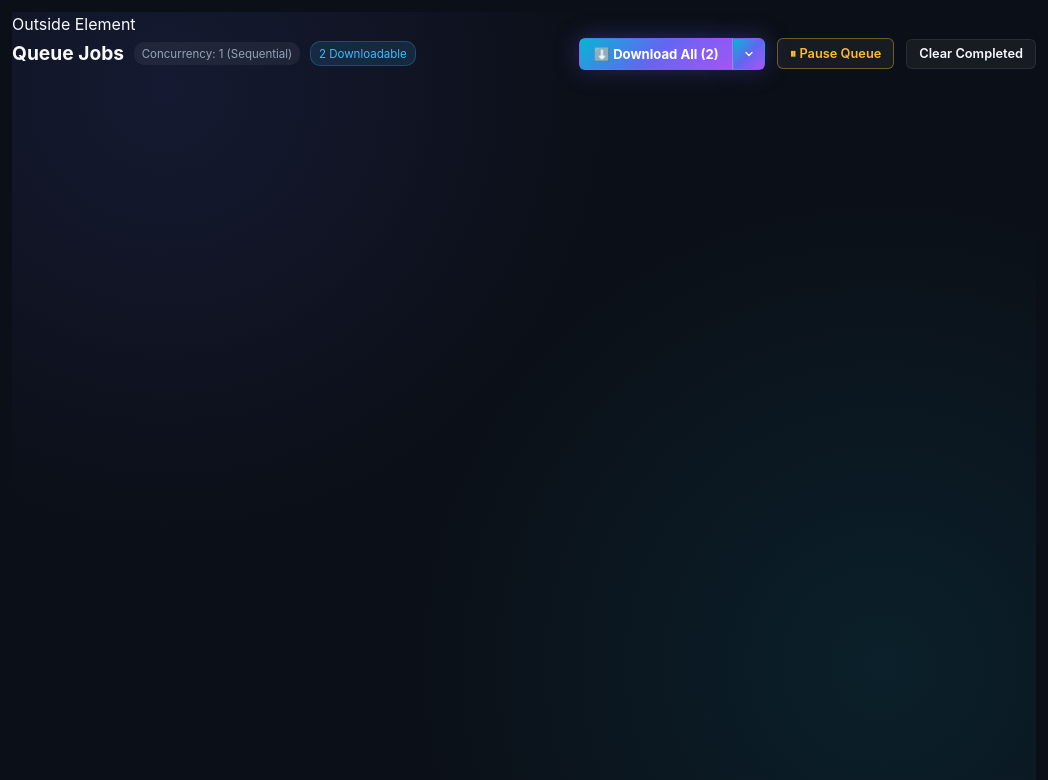
Test: QueueControls Dropdown Suite › closes dropdown when clicking outside
The width and height of the screenshot is (1048, 780).
Click the button named "Choose download format".
click(749, 54)  # box [733, 38, 765, 70]
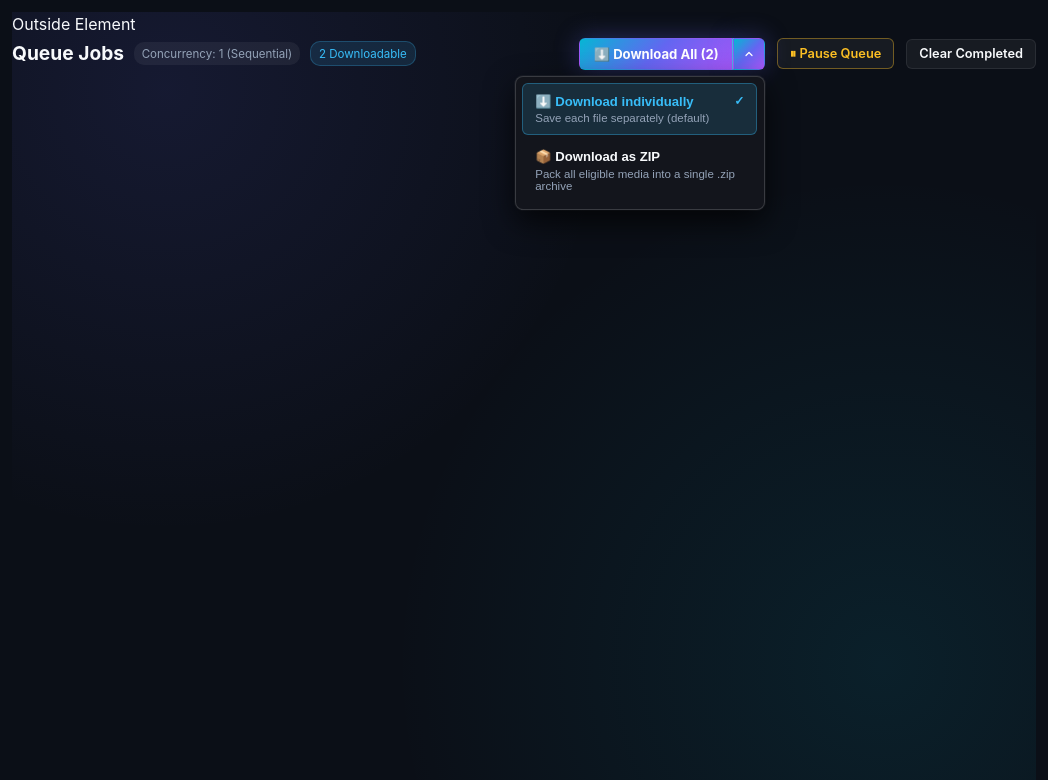
Expected: the menu is shown, [515, 76, 765, 210]
Press the mouse on the text "Outside Element" at {"x": 74, "y": 24}, box [12, 14, 136, 34]
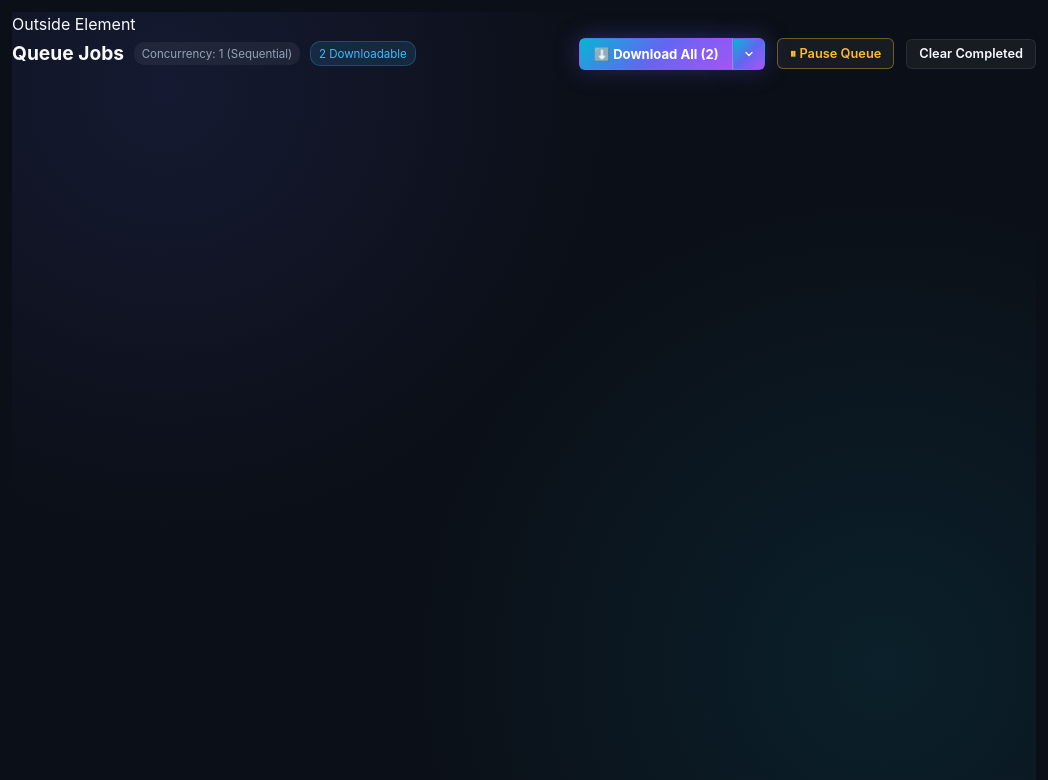
Expected: the menu is gone
